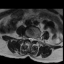CCS_normal: (30, 35, 32, 44)
LFS_normal: (34, 35, 36, 41)
LLS_normal: (32, 35, 34, 42)
RFS_normal: (26, 34, 28, 40)
RLS_stenosis: (28, 35, 30, 41)
